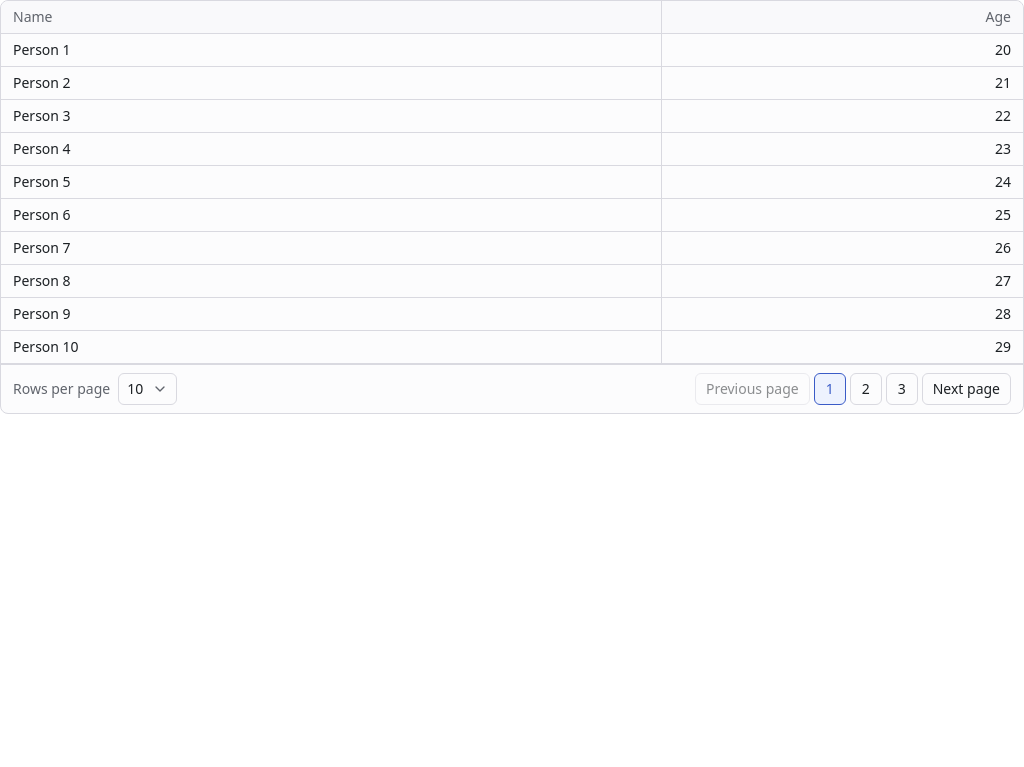
Scenario: Table pagination › fetches with the new page size, back on page 1, when the selector changes
Expected: the text "Person 1" is shown, 1,34 -> 662,67
Click the button named "Page 2" at [866, 389], box 850,373 -> 882,405
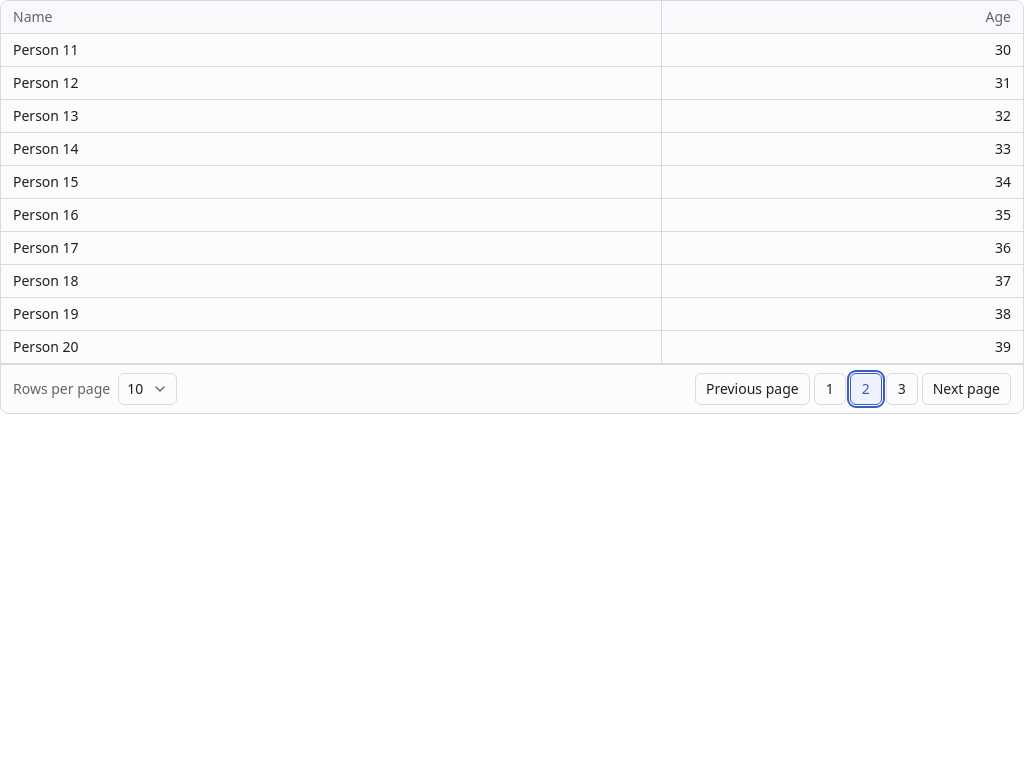
Expected: the text "Person 11" is shown, 1,34 -> 662,67
Select "25" in the dropdown named "Rows per page" at [136, 389], box 127,379 -> 144,399
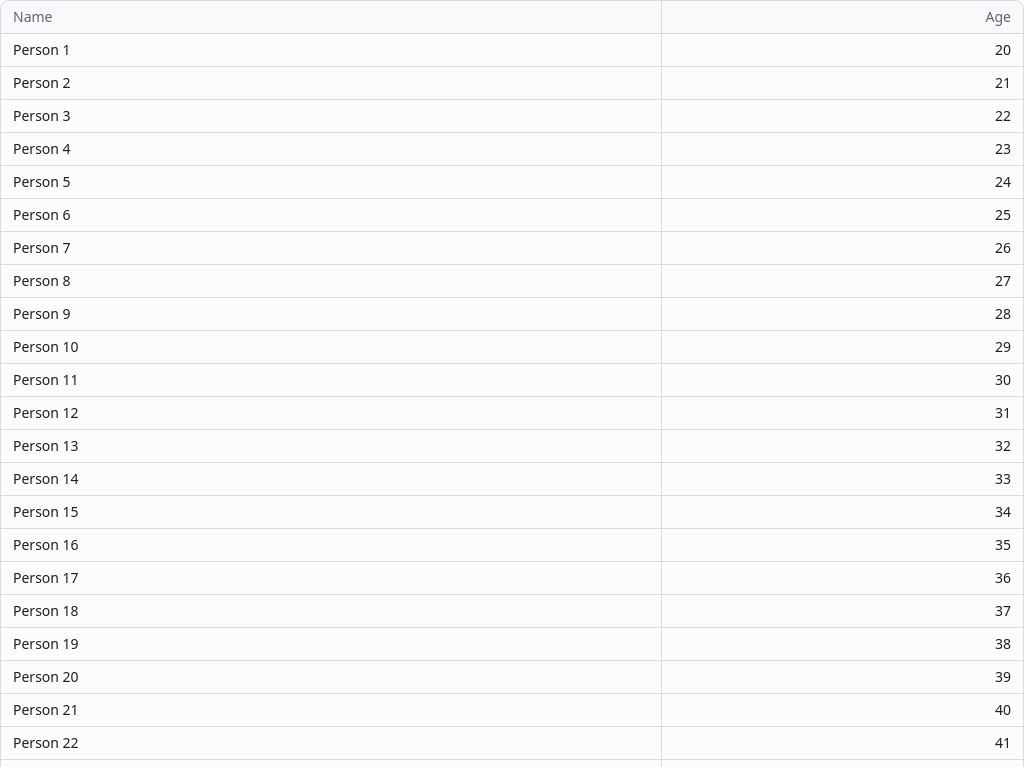
Expected: the text "Person 1" is shown, 1,34 -> 662,67
